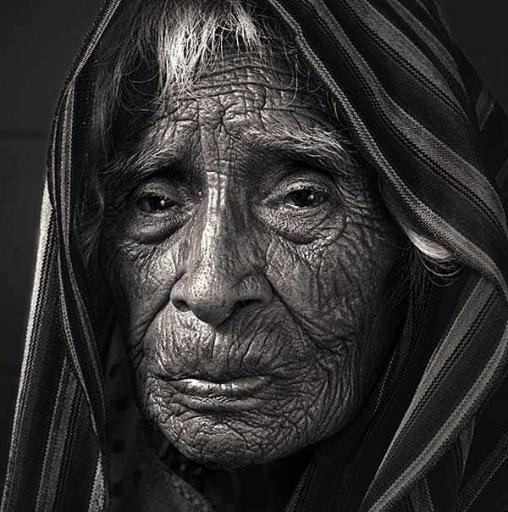left_eye: (269, 184, 337, 215)
left_lip_corner: (262, 348, 308, 386)
right_eye: (126, 190, 194, 222)
right_lip_corner: (144, 365, 177, 392)
